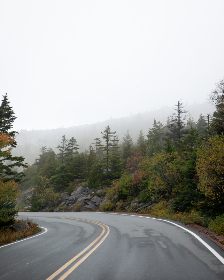leftTrun: (26, 191, 158, 276)
